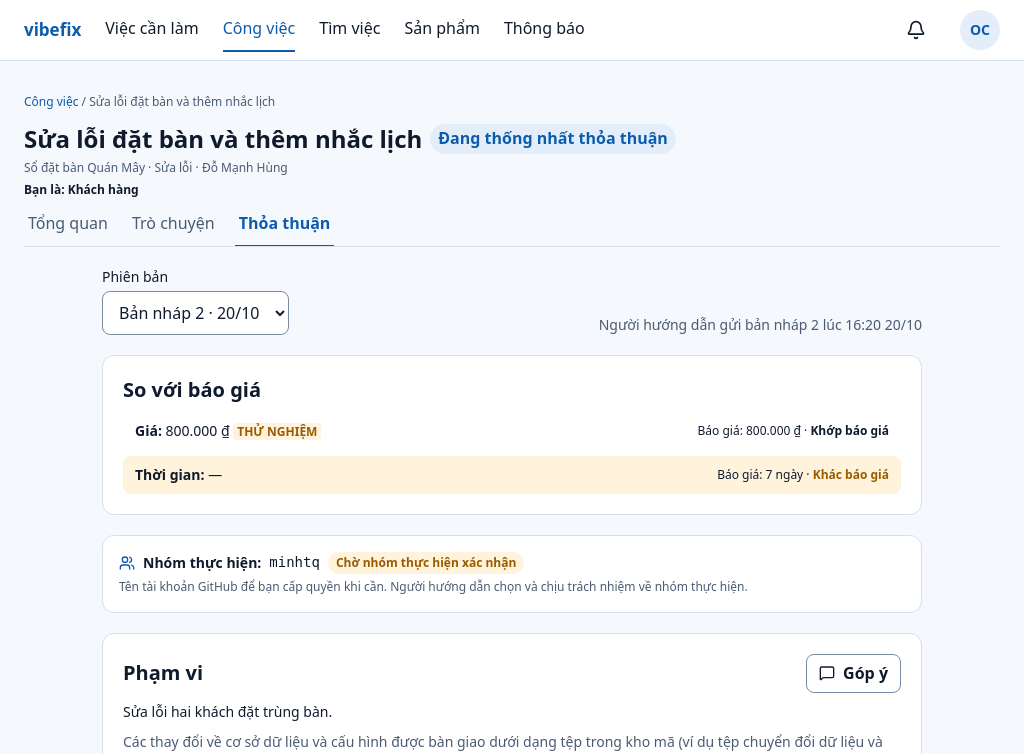
Test case: JOB-6 for the Customer: read the shared draft (FR-16) › shows the shared version with the quote, the criteria, and the versions
Expected: the text "Người hướng dẫn gửi bản nháp 2 lúc 16:20 20/10" is shown, x1=599 y1=314 x2=922 y2=335
Expected: the text "Đang thống nhất thỏa thuận" is shown, x1=430 y1=124 x2=676 y2=154
Select "Bản nháp 1 · 19/10" in the dropdown labelled "Phiên bản" at (196, 313), box x1=102 y1=291 x2=289 y2=335
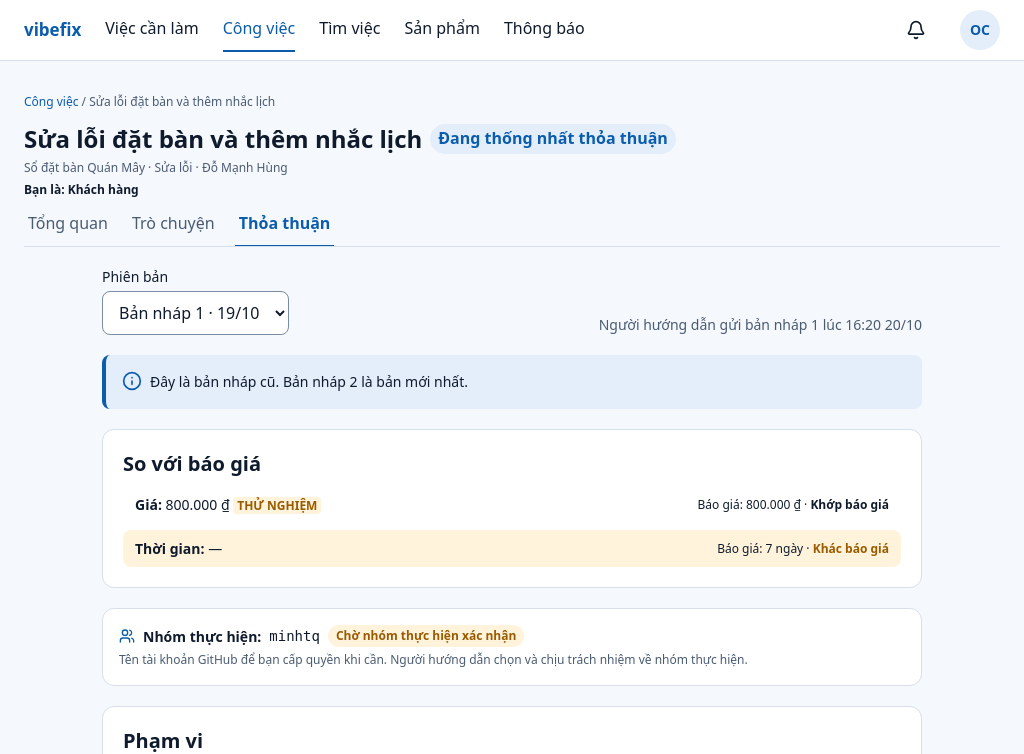
Now the text "Người hướng dẫn gửi bản nháp 1 lúc 16:20 20/10" is shown, box x1=599 y1=314 x2=922 y2=335
